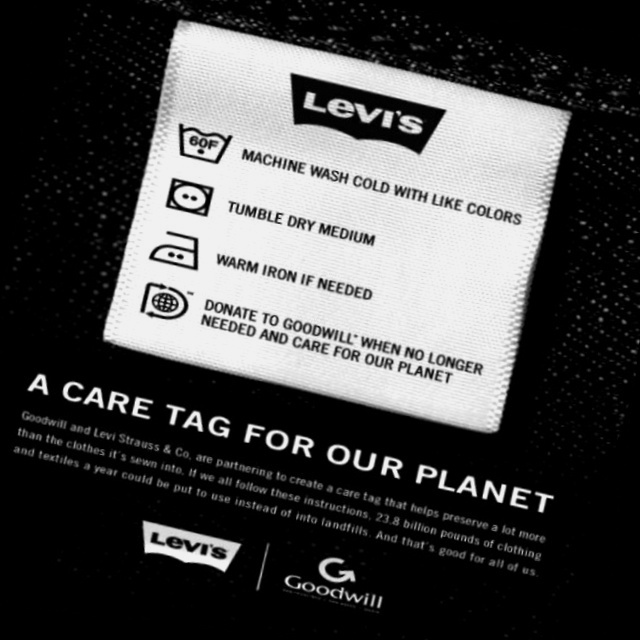30C: (166, 110, 242, 175)
iron_medium: (142, 219, 214, 281)
tumble_dry_medium: (156, 171, 223, 227)
